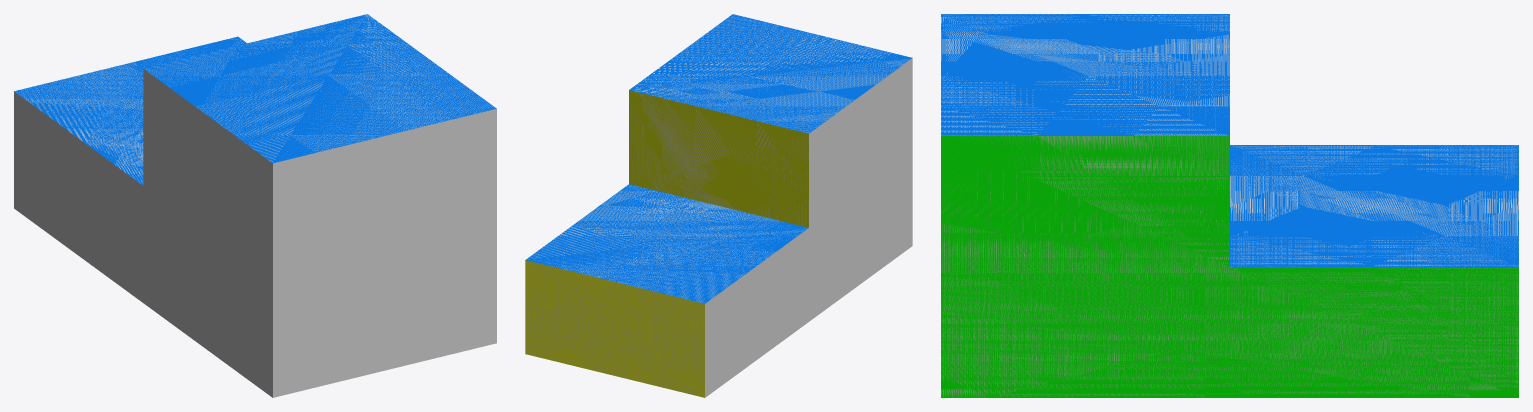
The model's file is Figura8.dae.
3 renders of one model, left to right at view 1: azimuth 30°, elevation 25°; view 2: azimuth 150°, elevation 25°; view 3: azimuth 270°, elevation 25°, orthographic. The views are drawn at different scales.
Visible parts, largest first — view 1: SketchUp (×3); view 2: SketchUp (×5); view 3: SketchUp (×3).
Boxes of the visible parts, left/top/right/bottom form: SketchUp (×3): left=14, top=14, right=496, bottom=397; SketchUp (×5): left=525, top=14, right=912, bottom=397; SketchUp (×3): left=941, top=14, right=1518, bottom=397.
Bounding box in the file's own units: 15.75 × 31.5 × 15.75.
